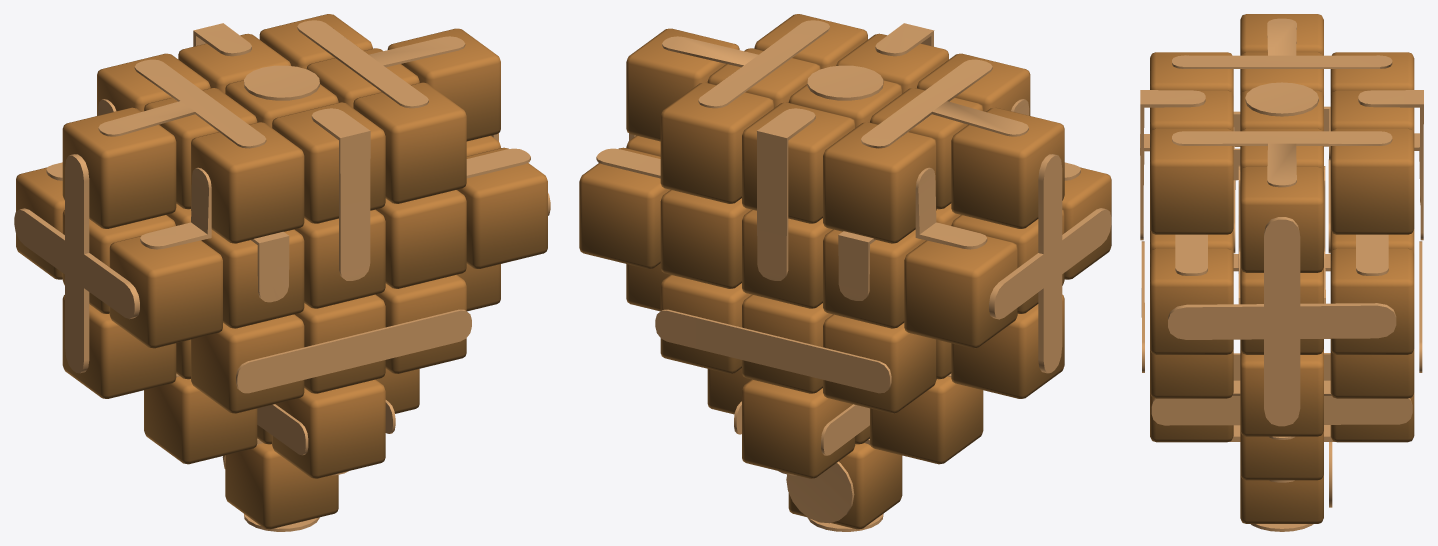
The model's file is level_126.fbx.
The picture shows the model from 3 angles, left to right: view 1: azimuth 30°, elevation 25°; view 2: azimuth 150°, elevation 25°; view 3: azimuth 270°, elevation 25°; orthographic projection. The views are drawn at different scales.
Parts seen in each view (by area): view 1: Cube_L1_12.028, Cube_L1_12.024, Cube_L1_12, Link_2, Cube_L1_12.029, Cube_L1_12.030, Cube_L1_12.026, Link_31, Cube_L1_12.025, Cube_L1_12.020, Cube_L1_12.016, Cube_L1_12.018 (+26 smaller); view 2: Cube_L1_12.040, Cube_L1_12.036, Cube_L1_12, Link_2, Cube_L1_12.041, Cube_L1_12.042, Cube_L1_12.038, Link_30, Cube_L1_12.037, Cube_L1_12.032, Cube_L1_12.016, Cube_L1_12.014 (+27 smaller); view 3: Link_3, Cube_L1_12.041, Cube_L1_12.029, Cube_L1_12.014, Cube_L1_12.038, Cube_L1_12.026, Link_24, Link, Cube_L1_12.005, Link_1, Cube_L1_12.033, Cube_L1_12.021 (+25 smaller).
Part boxes in pixels (x1,y1,x2,y2): Cube_L1_12.028: [191, 122, 304, 243]; Cube_L1_12.024: [109, 236, 222, 348]; Cube_L1_12: [62, 107, 176, 228]; Link_2: [14, 154, 139, 373]; Cube_L1_12.029: [353, 82, 466, 203]; Cube_L1_12.030: [272, 379, 385, 478]; Cube_L1_12.026: [457, 147, 547, 268]; Link_31: [236, 309, 471, 393]; Cube_L1_12.025: [376, 190, 466, 288]; Cube_L1_12.020: [191, 314, 304, 413]; Cube_L1_12.016: [144, 376, 257, 464]; Cube_L1_12.018: [225, 443, 338, 529]; Cube_L1_12.040: [823, 122, 936, 243]; Cube_L1_12.036: [904, 236, 1017, 348]; Cube_L1_12: [951, 107, 1064, 228]; Link_2: [989, 154, 1111, 373]; Cube_L1_12.041: [660, 82, 773, 203]; Cube_L1_12.042: [742, 379, 855, 478]; Cube_L1_12.038: [579, 147, 670, 268]; Link_30: [655, 309, 891, 393]; Cube_L1_12.037: [660, 190, 751, 288]; Cube_L1_12.032: [823, 314, 936, 413]; Cube_L1_12.016: [870, 376, 983, 464]; Cube_L1_12.014: [626, 28, 739, 141]; Link_3: [1168, 217, 1396, 426]; Cube_L1_12.041: [1330, 128, 1414, 234]; Cube_L1_12.029: [1150, 128, 1233, 234]; Cube_L1_12.014: [1240, 166, 1323, 272]; Cube_L1_12.038: [1330, 248, 1414, 354]; Cube_L1_12.026: [1150, 248, 1233, 354]; Link_24: [1151, 396, 1412, 425]; Link: [1172, 131, 1392, 187]; Cube_L1_12.005: [1240, 349, 1323, 436]; Link_1: [1172, 18, 1392, 68]; Cube_L1_12.033: [1330, 349, 1414, 398]; Cube_L1_12.021: [1150, 349, 1233, 398].
Bounding box in the file's own units: 11.08 × 11.03 × 6.76.
